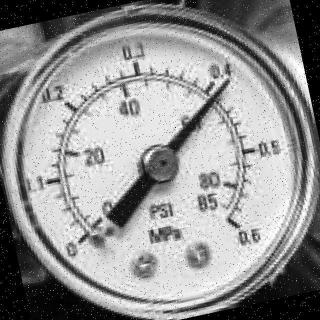gauge: (0, 4, 320, 320), (69, 205, 123, 263), (138, 139, 186, 189), (215, 204, 258, 247), (218, 75, 237, 92)
